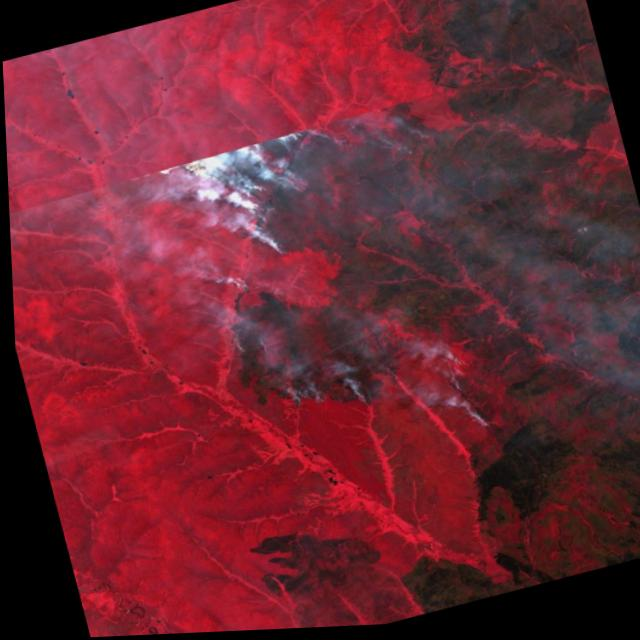fire: (178, 121, 353, 276), (243, 352, 383, 441), (421, 341, 497, 458), (218, 275, 252, 307)
